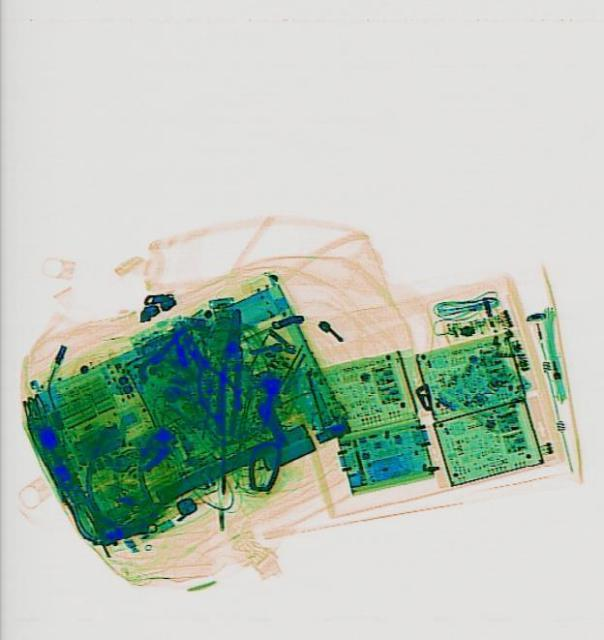Pliers: (164, 324, 244, 424), (212, 307, 245, 437)
